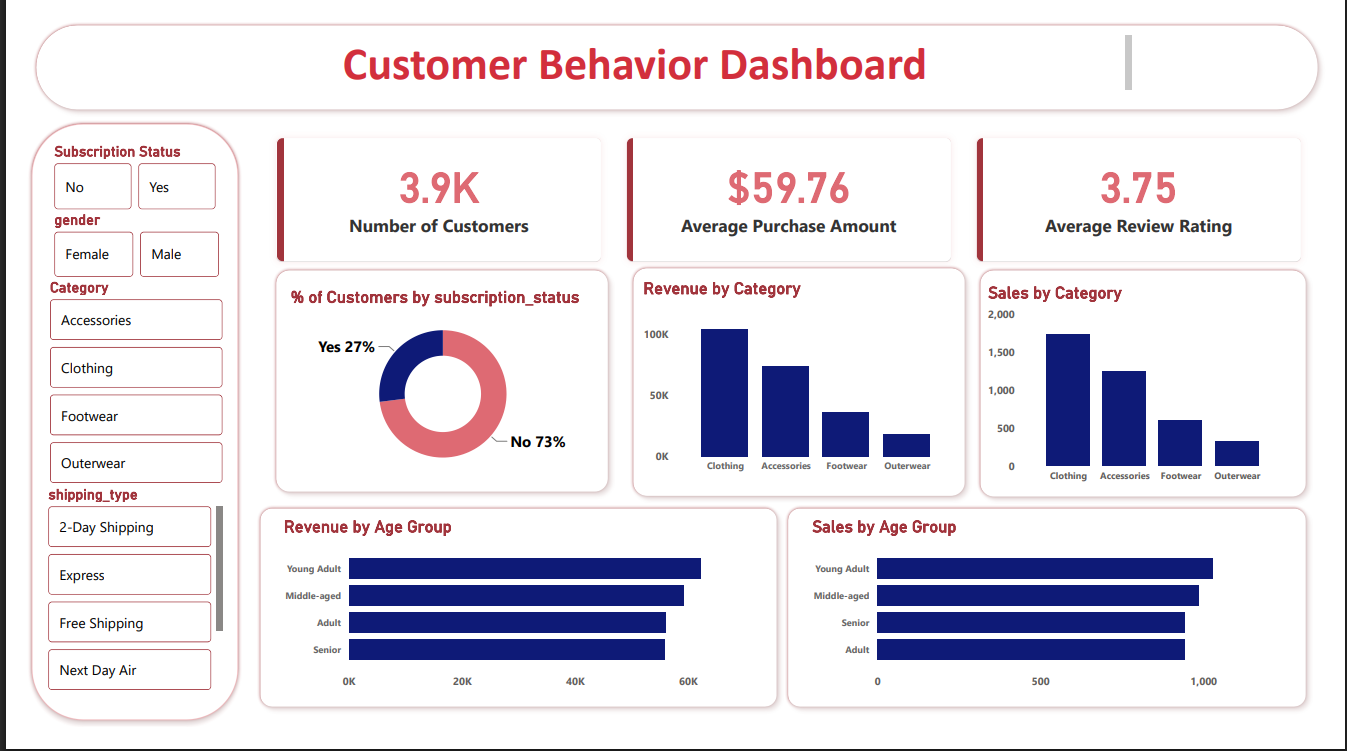

The page's visual inventory and layout, read from the dashboard file:
{"tool":"powerbi","page":{"name":"Page 1","canvas":[1500,820],"ordinal":0},"visuals":[{"type":"cardVisual","fields":{"Data":["public customer.Number of Customers","public customer.Average Purchase Amount","public customer.Average Review Rating"]},"box":[261.8,111.3,1238.2,198.5],"z":0},{"type":"shape","box":[281.5,283.1,398.6,273.4],"z":1000},{"type":"donutChart","title":"% of Customers by subscription_status","fields":{"Category":["public customer.subscription_status"],"Y":["public customer.Number of Customers"]},"box":[301,310.8,361.2,224.5],"z":2000},{"type":"shape","box":[693.2,281.5,400.3,278.2],"z":3000},{"type":"shape","box":[1093.4,283.1,392.1,278.2],"z":4000},{"type":"clusteredColumnChart","title":"Revenue  by Category","fields":{"Category":["public customer.category"],"Y":["Sum(public customer.purchase_amount)"]},"box":[707.8,301,371,232.7],"z":5000},{"type":"clusteredColumnChart","title":"Sales  by Category","fields":{"Category":["public customer.category"],"Y":["CountNonNull(public customer.purchase_amount)"]},"box":[1106.4,305.9,349.8,239.2],"z":6000},{"type":"shape","box":[0,115.2,252.2,702.9],"z":7000},{"type":"shape","box":[3.1,0,1496.9,113.9],"z":8000},{"type":"textbox","box":[133.4,14.6,1148.7,74.8],"z":9000},{"type":"advancedSlicerVisual","fields":{"Values":["public customer.subscription_status"]},"box":[28,143.8,196.9,83],"z":10000},{"type":"advancedSlicerVisual","fields":{"Values":["public customer.gender"]},"box":[28,223.2,201.8,81.4],"z":11000},{"type":"advancedSlicerVisual","fields":{"Values":["public customer.category"]},"box":[22.8,301,209.9,243.4],"z":12000},{"type":"advancedSlicerVisual","fields":{"Values":["public customer.shipping_type"]},"box":[21.2,539.6,211.5,244.7],"z":13000},{"type":"shape","box":[262,558.1,613.4,245.7],"z":14000},{"type":"clusteredBarChart","title":"Revenue  by Age Group","fields":{"Category":["public customer.age_group"],"Y":["Sum(public customer.purchase_amount)"]},"box":[292.9,576,553.2,208.3],"z":15000},{"type":"shape","box":[872.1,558.1,613.4,245.7],"z":16000},{"type":"clusteredBarChart","title":"Sales  by Age Group","fields":{"Category":["public customer.age_group"],"Y":["CountNonNull(public customer.customer_id)"]},"box":[903.1,576,553.2,208.3],"z":17000}]}

Visuals, with their boxes in screenshot pixels (x1, y1, x2, y2), scaled from the page's 1500x820 canvas onto the 1347x751 screenshot:
cardVisual - public customer.Number of Customers x public customer.Average Purchase Amount: 235,102,1346,284
shape: 253,259,611,510
"% of Customers by subscription_status" donutChart: 270,285,595,490
shape: 622,258,982,513
shape: 982,259,1334,514
"Revenue  by Category" clusteredColumnChart: 636,276,969,489
"Sales  by Category" clusteredColumnChart: 994,280,1308,499
shape: 0,106,226,749
shape: 3,0,1346,104
textbox: 120,13,1151,82
advancedSlicerVisual - public customer.subscription_status: 25,132,202,208
advancedSlicerVisual - public customer.gender: 25,204,206,279
advancedSlicerVisual - public customer.category: 20,276,209,499
advancedSlicerVisual - public customer.shipping_type: 19,494,209,718
shape: 235,511,786,736
"Revenue  by Age Group" clusteredBarChart: 263,528,760,718
shape: 783,511,1334,736
"Sales  by Age Group" clusteredBarChart: 811,528,1308,718
